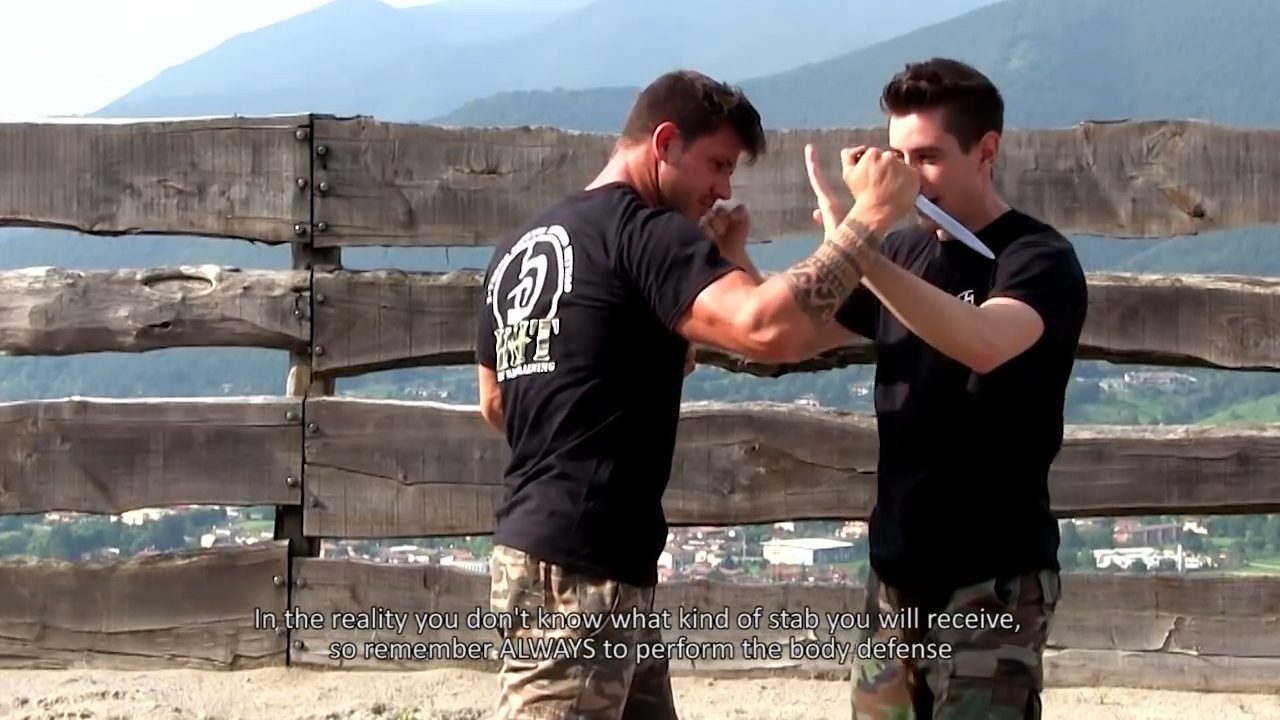knife: (840, 142, 999, 263)
